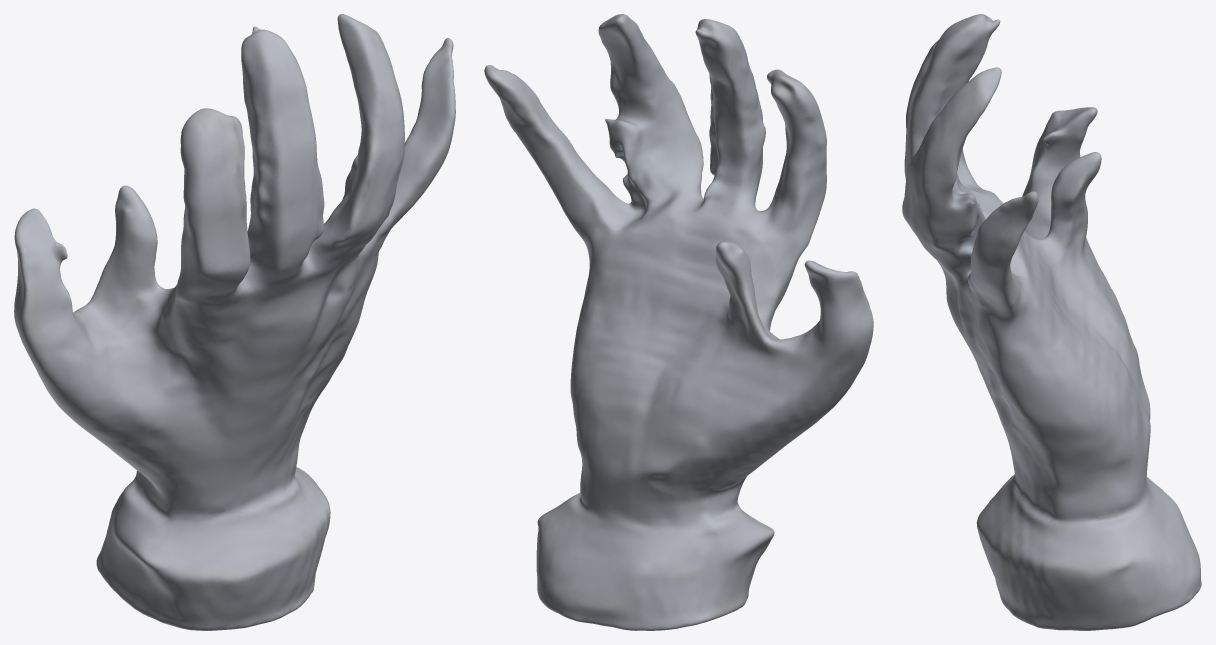
File: e3cecd2eee07_sculpture_hands__3d.fbx
3 renders of one model, left to right at view 1: azimuth 30°, elevation 25°; view 2: azimuth 150°, elevation 25°; view 3: azimuth 270°, elevation 25°, orthographic. The views are drawn at different scales.
Visible parts, largest first — view 1: high_poly; view 2: high_poly; view 3: high_poly.
Boxes of the visible parts, box(x1,y1,x2,y2) form: high_poly: box(14, 14, 455, 630); high_poly: box(484, 14, 873, 630); high_poly: box(902, 14, 1201, 630).
Bounding box in the file's own units: 74.1 × 100 × 47.01.
